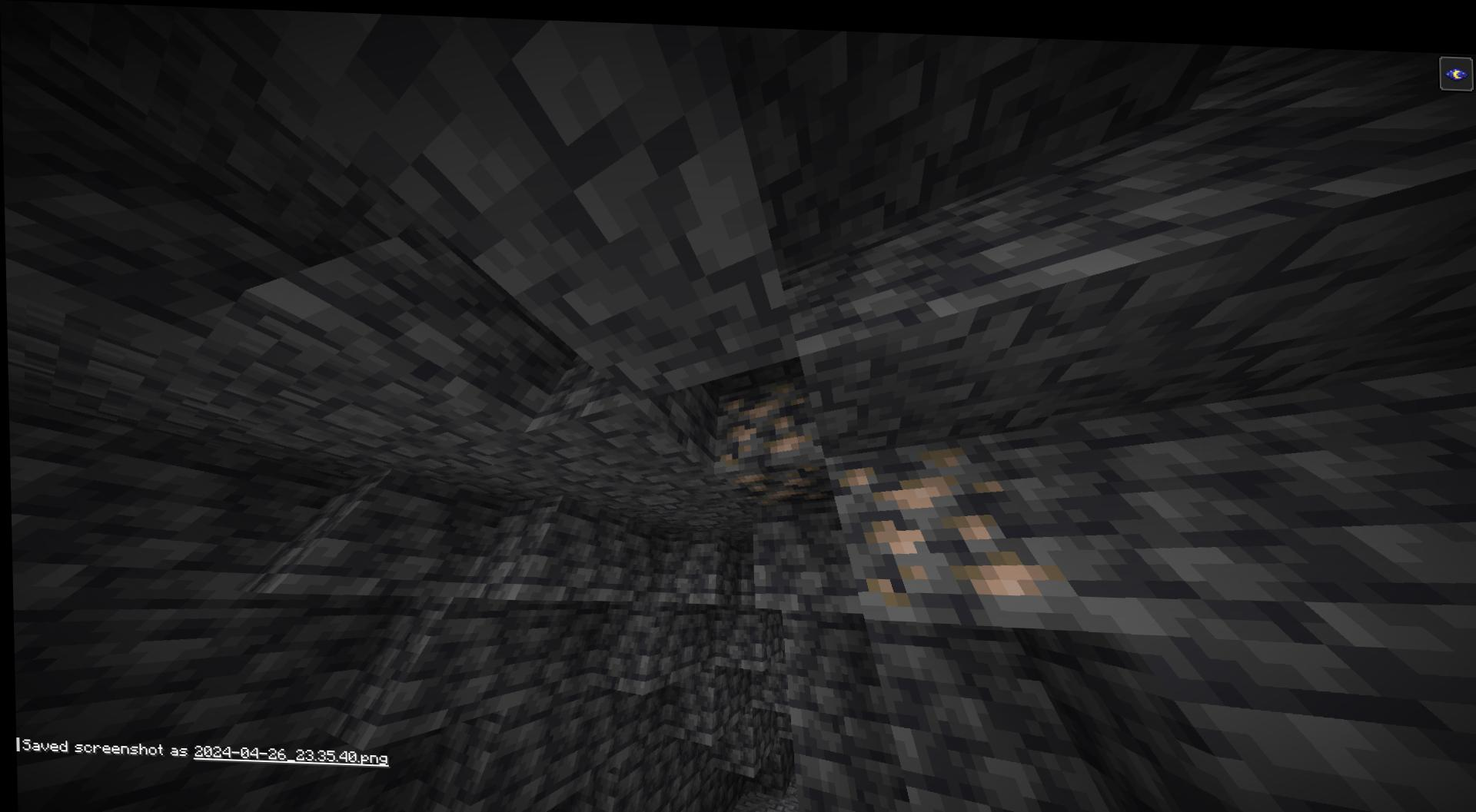iron ore: (832, 440, 1038, 602), (708, 376, 810, 458), (735, 455, 829, 499)
